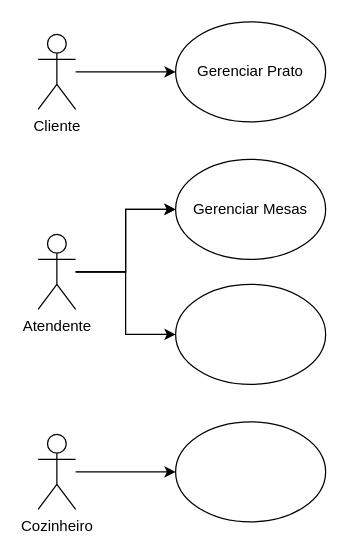
The diagram is 348 pixels wide and 558 high, and some of its shapes have lost their labels. Here are the shapes that lost their labels. From the top down, the centre of each, then its label:
At point 250,333: "Gerenciar Estoque".
At point 250,471: "Preparar Pedido".
